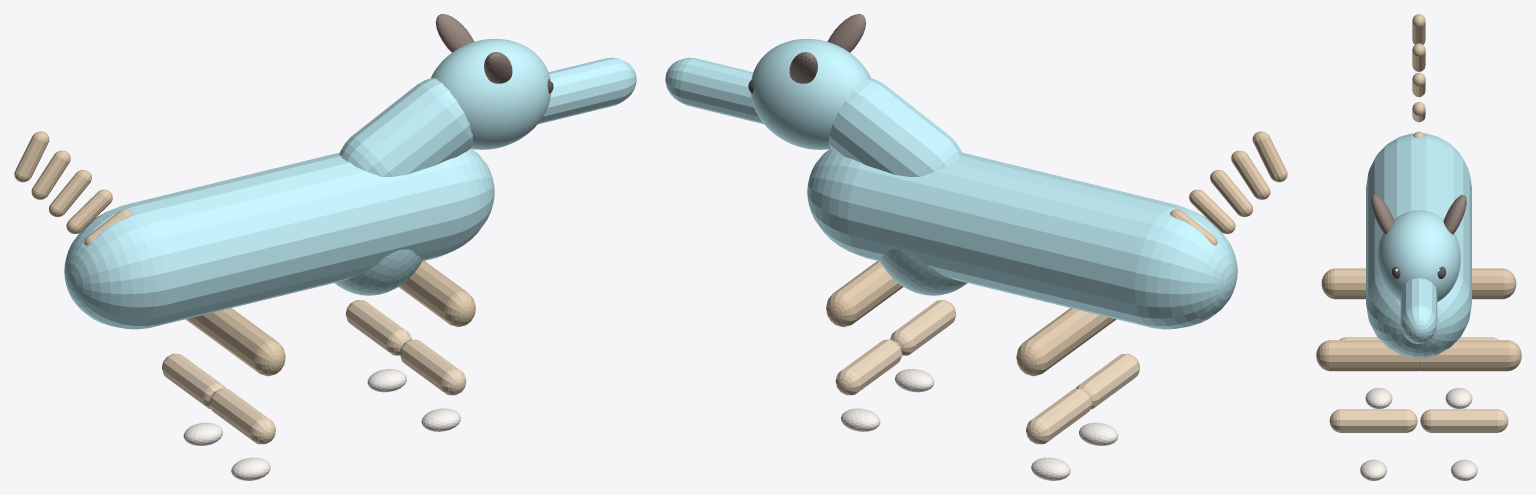
Rendered from gus.glb.
3 renders of one model, left to right at view 1: azimuth 30°, elevation 25°; view 2: azimuth 150°, elevation 25°; view 3: azimuth 270°, elevation 25°, orthographic. The views are drawn at different scales.
Visible parts, largest first — view 1: Rim_Body, Rim_Head, Rim_Neck, Rim_Muzzle, Leg_BL, Leg_FL, Rim_Chest, Shin_FL, Shin_BL, Shin_FR, Shin_BR, Tail_4 (+9 smaller); view 2: Rim_Body, Rim_Head, Rim_Neck, Rim_Muzzle, Leg_BR, Leg_FR, Rim_Chest, Shin_FR, Shin_BR, Shin_FL, Shin_BL, Tail_4 (+9 smaller); view 3: Rim_Body, Rim_Head, Leg_FL, Leg_FR, Rim_Muzzle, Shin_FL, Shin_FR, Leg_BL, Leg_BR, Ear_L, Ear_R, Paw_FL (+7 smaller).
Boxes of the visible parts, x1,y1,x2,y2 form: Rim_Body: (64,149,494,329); Rim_Head: (431,38,551,149); Rim_Neck: (339,78,473,176); Rim_Muzzle: (538,57,636,124); Leg_BL: (203,308,285,376); Leg_FL: (398,261,475,327); Rim_Chest: (334,249,422,295); Shin_FL: (400,339,466,395); Shin_BL: (209,388,275,444); Shin_FR: (345,300,411,355); Shin_BR: (162,353,226,409); Tail_4: (14,131,49,182); Rim_Body: (807,149,1237,329); Rim_Head: (750,38,870,149); Rim_Neck: (828,78,962,176); Rim_Muzzle: (665,57,763,124); Leg_BR: (1016,308,1097,376); Leg_FR: (826,261,903,327); Rim_Chest: (879,249,967,295); Shin_FR: (835,339,901,395); Shin_BR: (1026,388,1092,444); Shin_FL: (890,300,956,355); Shin_BL: (1075,353,1139,409); Tail_4: (1252,131,1287,182); Rim_Body: (1366,133,1471,357); Rim_Head: (1377,210,1460,302); Leg_FL: (1316,340,1418,371); Leg_FR: (1419,340,1521,371); Rim_Muzzle: (1400,278,1437,343); Shin_FL: (1329,409,1417,432); Shin_FR: (1420,409,1508,432); Leg_BL: (1321,268,1365,299); Leg_BR: (1472,268,1516,299); Ear_L: (1371,195,1394,234); Ear_R: (1443,195,1466,234); Paw_FL: (1360,459,1386,480).
Size of the model in its own units: 2.25 by 1.3 by 0.77.
